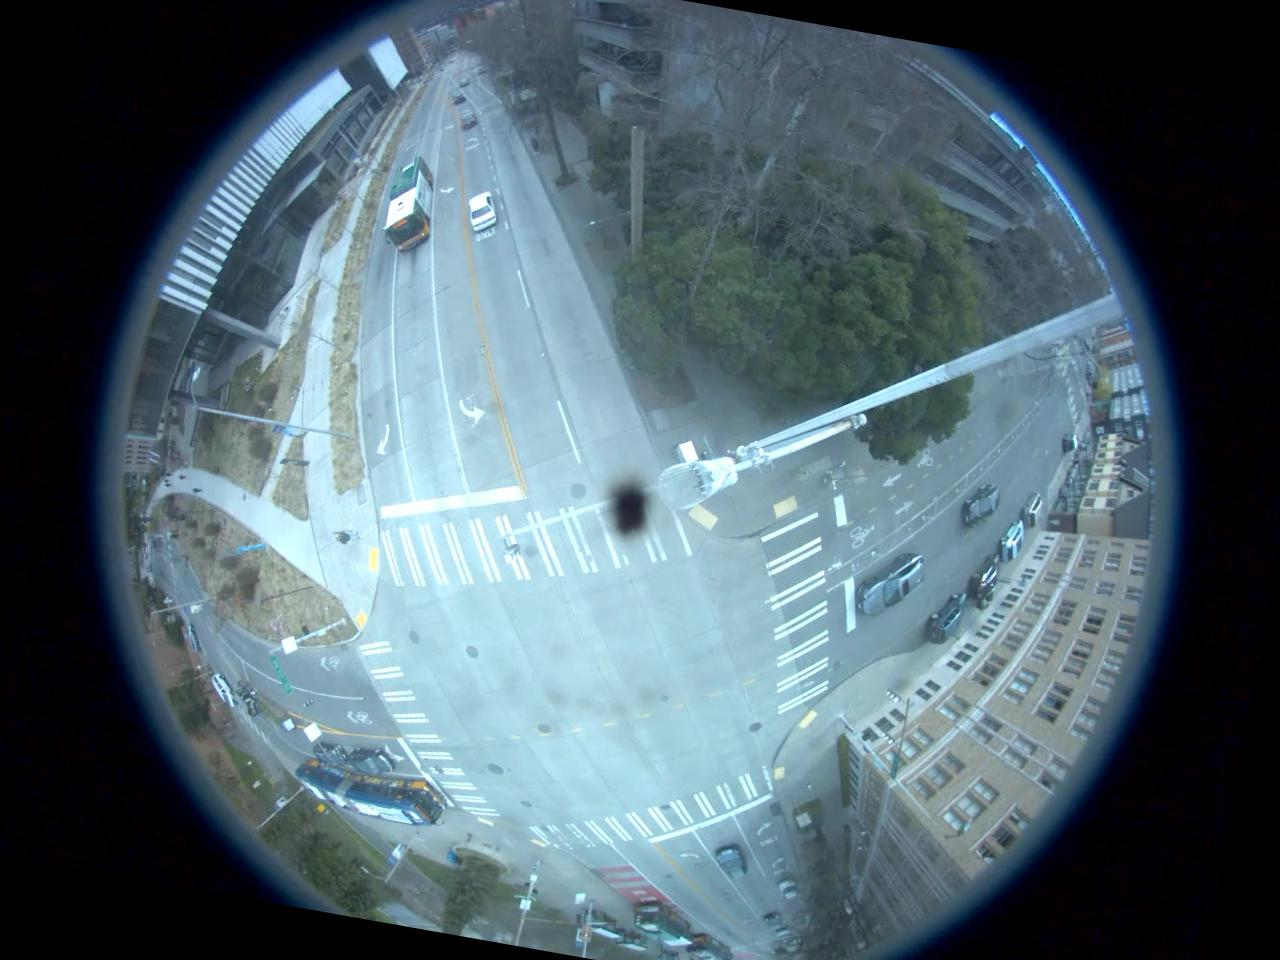bus: (291, 756, 447, 826), (380, 154, 446, 254), (630, 900, 696, 950), (684, 932, 734, 960)
car: (856, 550, 917, 619), (926, 588, 966, 648), (960, 548, 1001, 604), (707, 839, 755, 882), (958, 480, 1002, 526), (459, 188, 504, 230), (307, 734, 352, 774), (346, 744, 394, 778), (204, 670, 244, 710), (994, 520, 1032, 562), (1018, 492, 1048, 532), (760, 910, 784, 930)
person: (332, 529, 360, 548)
